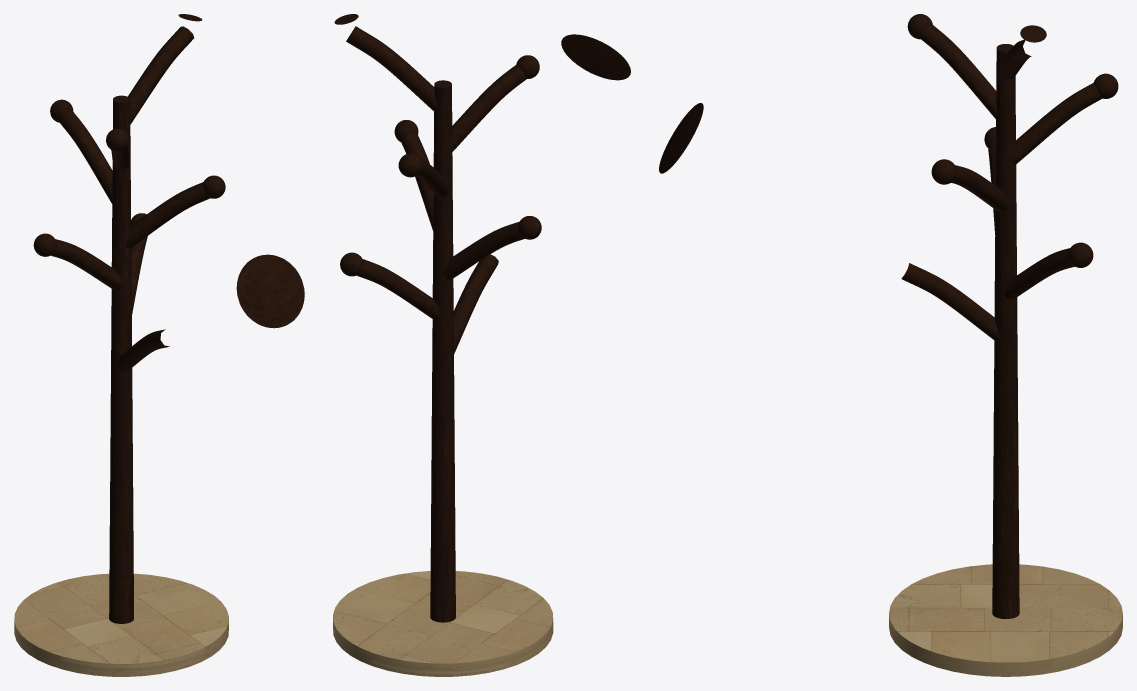
The model's file is luxury-coat-tree.glb.
3 views of the same model, side by side, from view 1: azimuth 30°, elevation 25°; view 2: azimuth 150°, elevation 25°; view 3: azimuth 270°, elevation 25° (orthographic). The views are drawn at different scales.
Parts seen in each view (by area): view 1: walnut_1, stone_0; view 2: walnut_1, stone_0; view 3: walnut_1, stone_0.
Part boxes in pixels (x1,y1,x2,y2): walnut_1: (33,14,304,623); stone_0: (14,573,228,676); walnut_1: (334,14,630,622); stone_0: (333,571,553,676); walnut_1: (659,14,1118,618); stone_0: (889,564,1122,676).
Bounding box in the file's own units: 0.6 × 1.81 × 1.19.
Materials: 2 (2 with a texture image).
